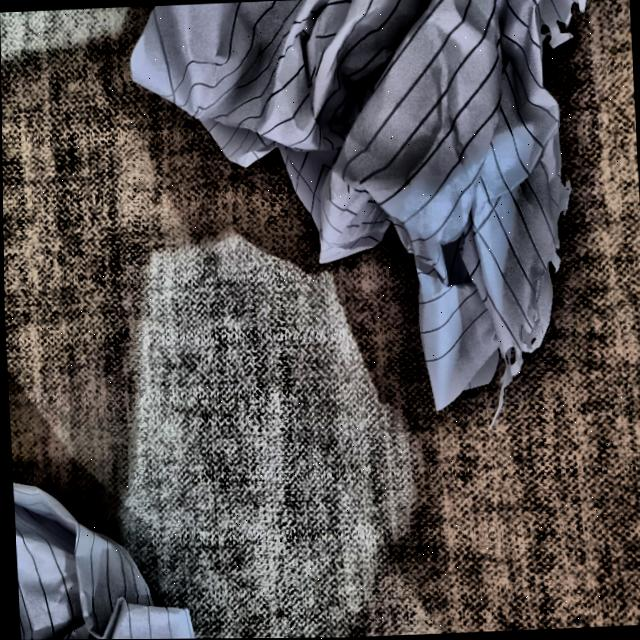paper: (130, 0, 614, 313), (10, 467, 194, 640)
